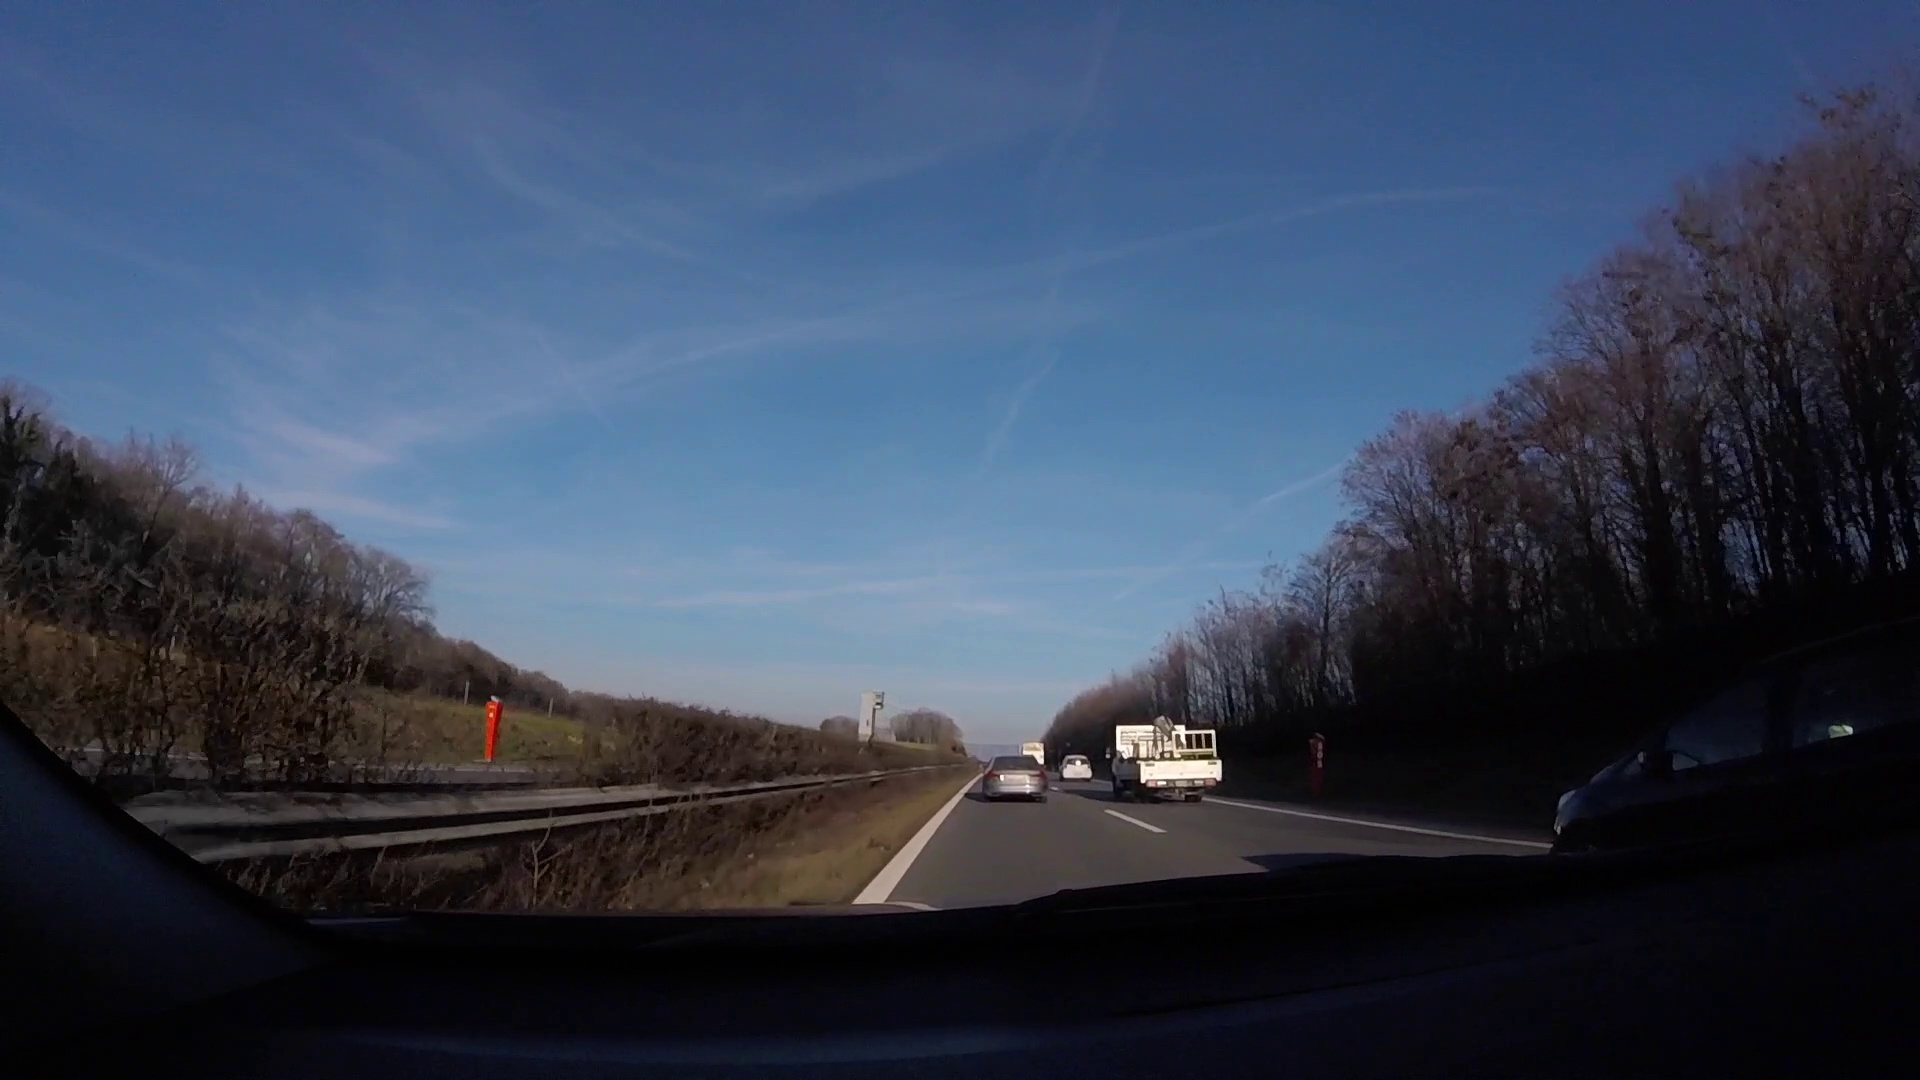radar: (857, 688, 887, 744)
